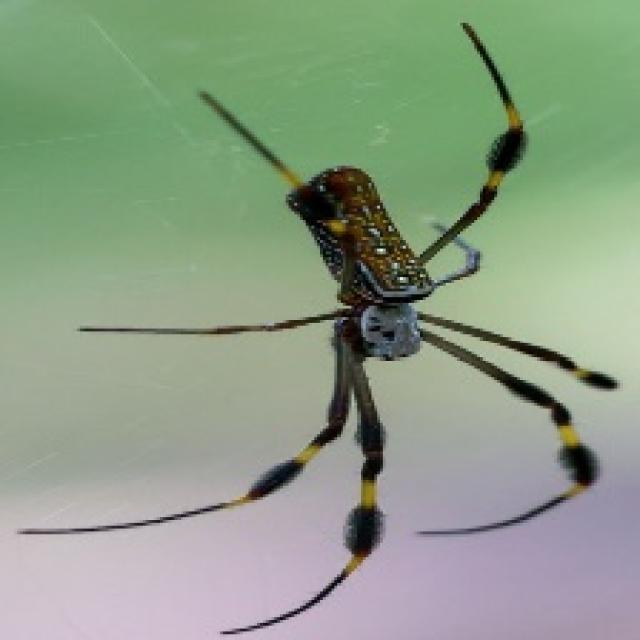Non venomous spider: (124, 20, 605, 611)
